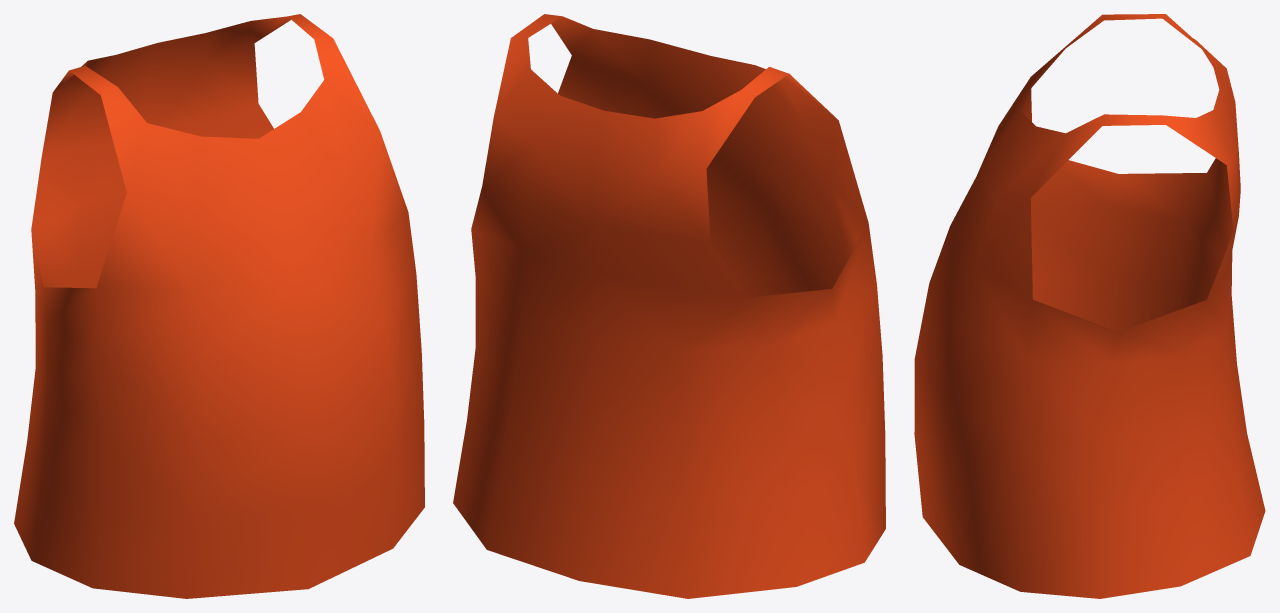
Rendered from Outerwear_Orange_008.glb.
The picture shows the model from 3 angles, left to right: view 1: azimuth 30°, elevation 25°; view 2: azimuth 150°, elevation 25°; view 3: azimuth 270°, elevation 25°; orthographic projection. The views are drawn at different scales.
Visible parts, largest first — view 1: Outerwear_Orange_008; view 2: Outerwear_Orange_008; view 3: Outerwear_Orange_008.
Boxes of the visible parts, left/top/right/bottom form: Outerwear_Orange_008: left=14, top=14, right=424, bottom=598; Outerwear_Orange_008: left=453, top=14, right=885, bottom=598; Outerwear_Orange_008: left=914, top=14, right=1265, bottom=598.
Size of the model in its own units: 0.4419 by 0.519 by 0.3668.
1 material, 1 textured.
